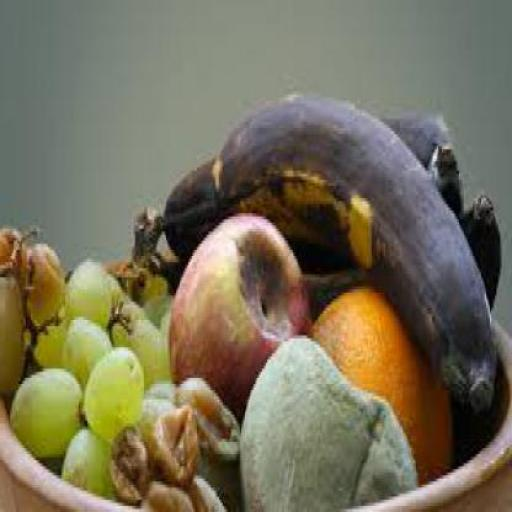biodegradable: (214, 88, 502, 418), (134, 110, 452, 272), (244, 329, 421, 509), (169, 210, 313, 421), (306, 136, 466, 314), (316, 283, 454, 487), (12, 363, 84, 460), (86, 341, 147, 442), (180, 374, 241, 460), (462, 192, 505, 308), (149, 399, 201, 485), (67, 256, 123, 335), (109, 420, 154, 503), (64, 420, 112, 494), (63, 314, 115, 381), (28, 241, 64, 329), (1, 272, 26, 394), (130, 314, 169, 375), (35, 308, 70, 369), (146, 375, 178, 439), (144, 476, 197, 509), (111, 298, 147, 344), (184, 472, 228, 509), (2, 229, 28, 281), (144, 289, 175, 326), (104, 259, 134, 286)
